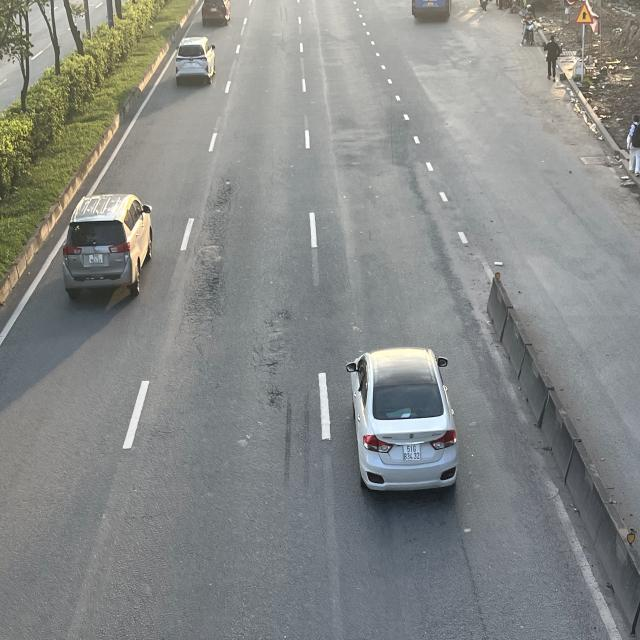car: (344, 347, 457, 496), (61, 190, 153, 300), (176, 38, 218, 88)
